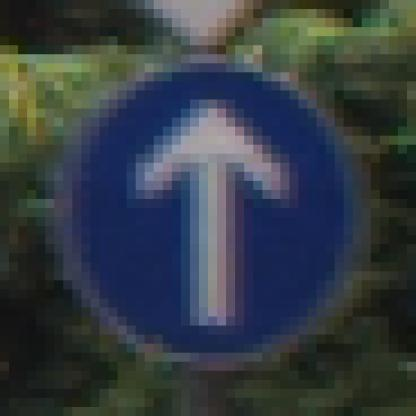AheadOnly: (55, 46, 372, 372)
